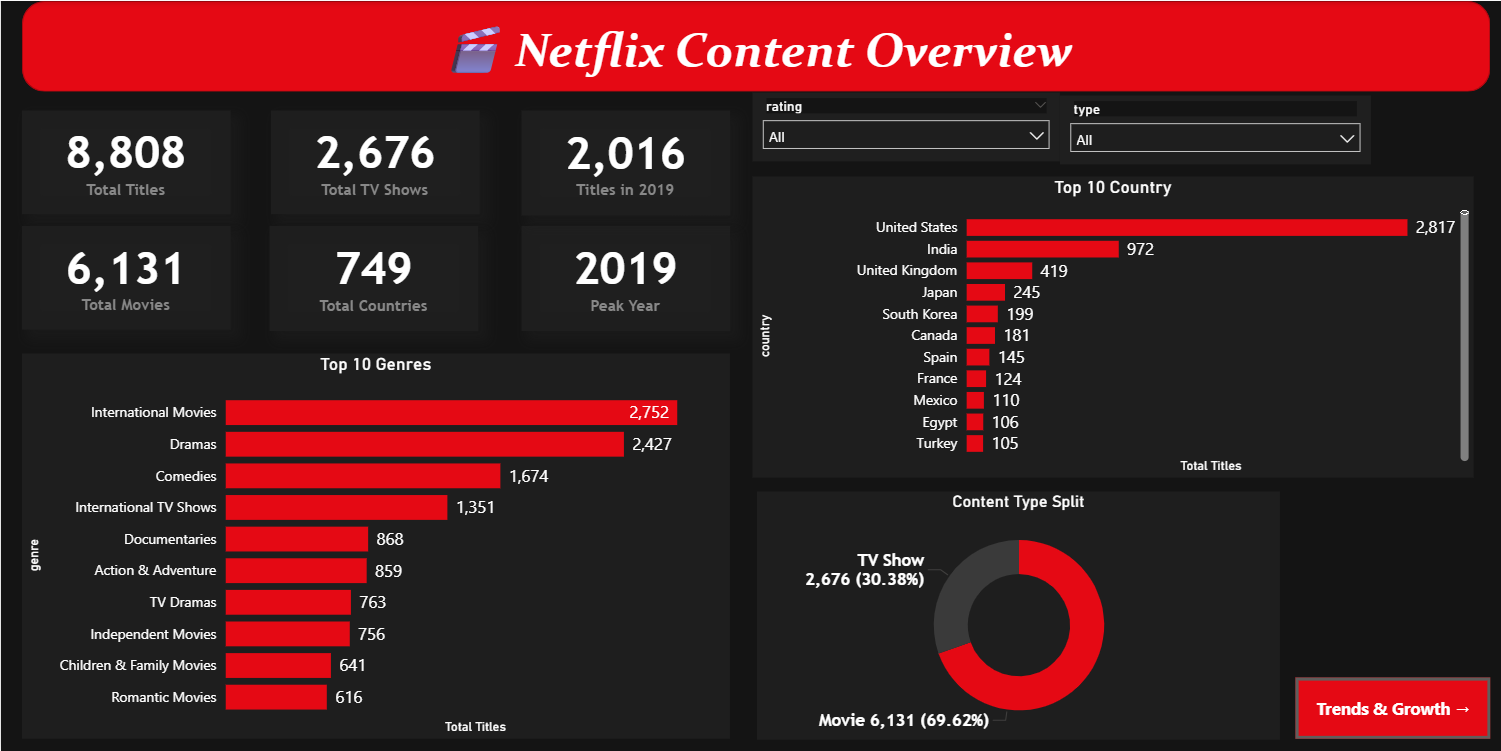

The dashboard page shown, as its layout file describes it:
{"tool":"powerbi","page":{"name":"Content Overview","canvas":[1440,720],"ordinal":0},"visuals":[{"type":"shape","box":[20.3,0,1407.6,87],"z":0},{"type":"cardVisual","fields":{"Data":["Measures (2).Total Titles"]},"box":[20.1,105,199.9,99.2],"z":1000},{"type":"cardVisual","fields":{"Data":["Measures (2).Total Movies"]},"box":[20.1,215,199.9,99.2],"z":2000},{"type":"cardVisual","fields":{"Data":["Measures (2).Total TV Shows"]},"box":[258.9,105,199.9,99.2],"z":3000},{"type":"cardVisual","fields":{"Data":["Measures (2).Total Countries"]},"box":[257.4,215,199.9,100.7],"z":4000},{"type":"donutChart","title":"Content Type Split","fields":{"Y":["Measures (2).Total Titles"],"Category":["netflix_titles.type"]},"box":[724.8,469.7,501.6,237.7],"z":5000},{"type":"clusteredBarChart","title":"Top 10 Genres","fields":{"Y":["Measures (2).Total Titles"],"Category":["netflix_generes.genre"]},"box":[20.1,338,678.8,369.6],"z":6000},{"type":"barChart","title":"Top 10 Country","fields":{"Category":["netflix_titles.country"],"Y":["Measures (2).Total Titles"]},"box":[720.5,168.2,691.5,288.5],"z":7000},{"type":"slicer","fields":{"Values":["netflix_titles.type"]},"box":[1015.3,90.6,297.7,66.2],"z":8000},{"type":"slicer","fields":{"Values":["netflix_titles.rating"]},"box":[720.5,87.7,294.8,66.2],"z":9000},{"type":"cardVisual","fields":{"Data":["Measures (2).Peak Year"]},"box":[499,215,199.9,100.7],"z":10000},{"type":"cardVisual","fields":{"Data":["Measures (2).Titles in 2019"]},"box":[499,105,199.9,100.7],"z":11000},{"type":"actionButton","box":[1241.1,648.6,187,59],"z":12000}]}

Visuals, with their boxes in screenshot pixels (x1, y1, x2, y2), scaled from the page's 1440x720 canvas onto the 1501x751 screenshot:
shape: 21/0/1488/91
cardVisual - Measures (2).Total Titles: 21/110/229/213
cardVisual - Measures (2).Total Movies: 21/224/229/328
cardVisual - Measures (2).Total TV Shows: 270/110/478/213
cardVisual - Measures (2).Total Countries: 268/224/477/329
"Content Type Split" donutChart: 756/490/1278/738
"Top 10 Genres" clusteredBarChart: 21/353/729/738
"Top 10 Country" barChart: 751/175/1472/476
slicer - netflix_titles.type: 1058/95/1369/164
slicer - netflix_titles.rating: 751/91/1058/161
cardVisual - Measures (2).Peak Year: 520/224/729/329
cardVisual - Measures (2).Titles in 2019: 520/110/729/215
actionButton: 1294/677/1489/738
